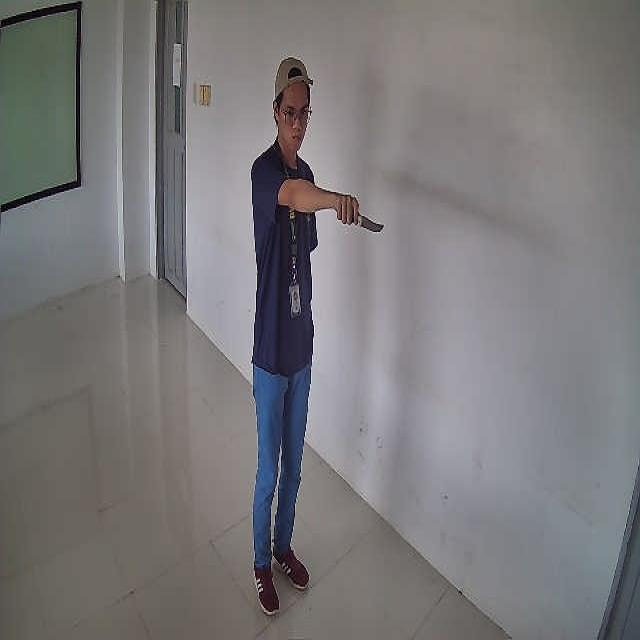knife: (358, 212, 384, 232)
